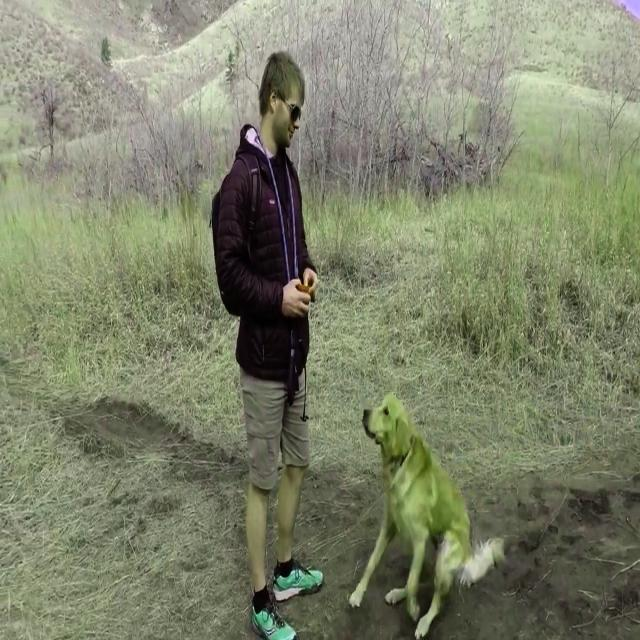Unleashed_Dog: (264, 391, 506, 639)
